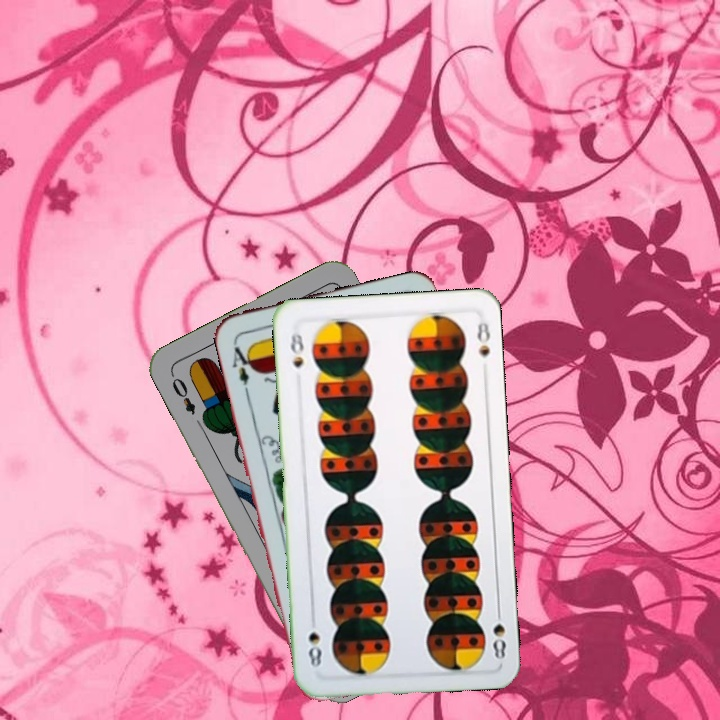EA: (227, 337, 256, 395)
EO: (166, 369, 198, 418)
S8: (489, 603, 509, 662), (286, 328, 307, 370)
